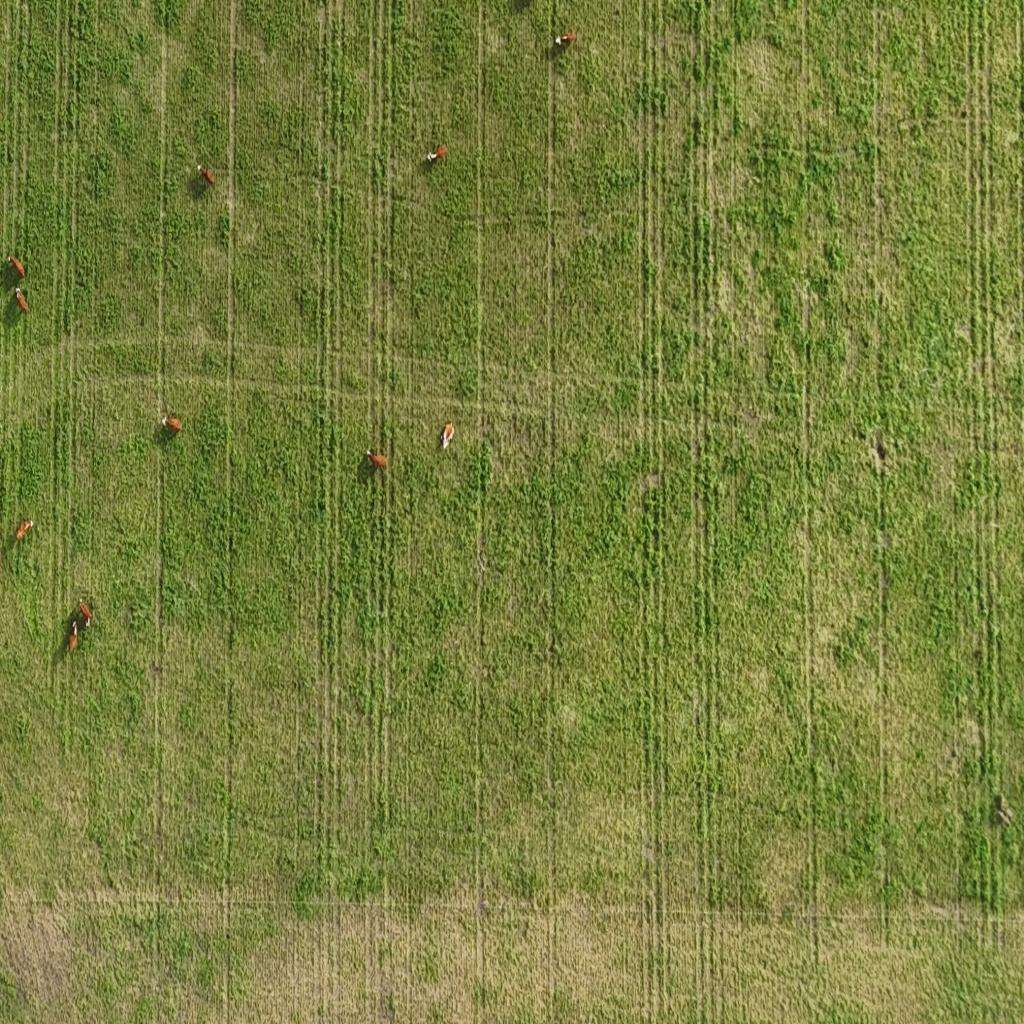cow: (13, 518, 36, 549), (366, 449, 390, 473), (440, 420, 456, 456), (10, 284, 28, 314), (6, 253, 26, 279), (161, 413, 183, 435), (554, 30, 578, 50), (78, 602, 94, 631), (427, 144, 448, 165), (197, 162, 215, 184), (68, 620, 78, 654)
